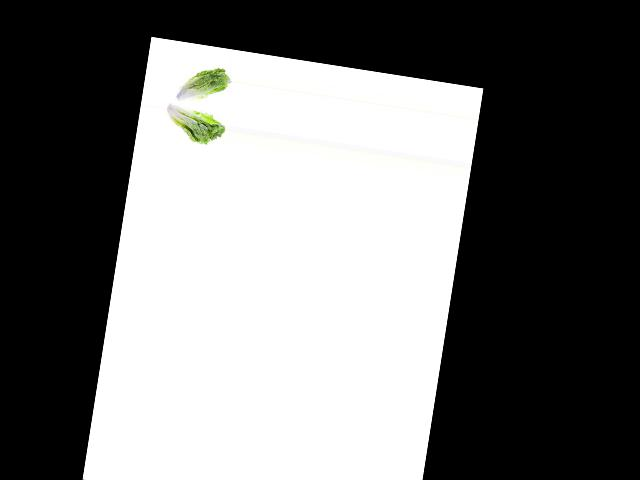lettuce: (169, 60, 232, 108)
